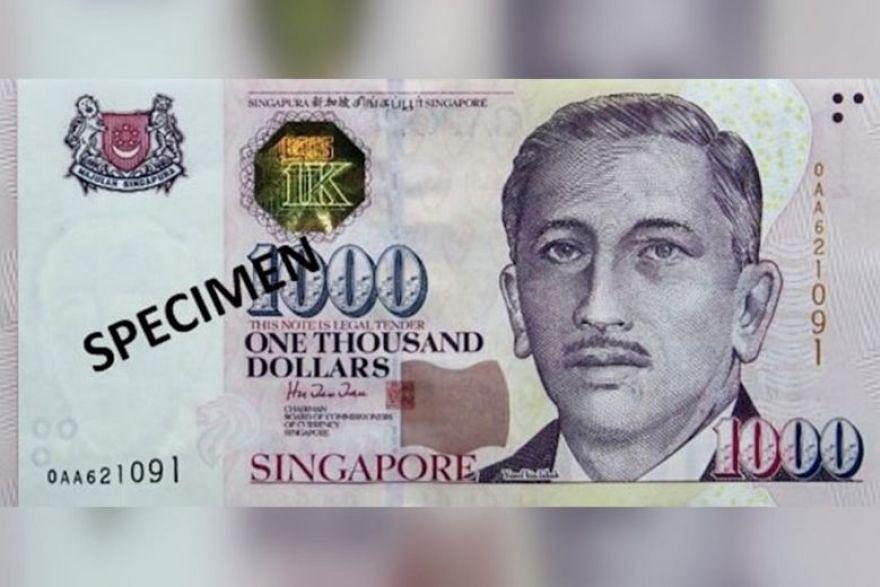1000SingaporeDollar: (0, 77, 877, 506)
